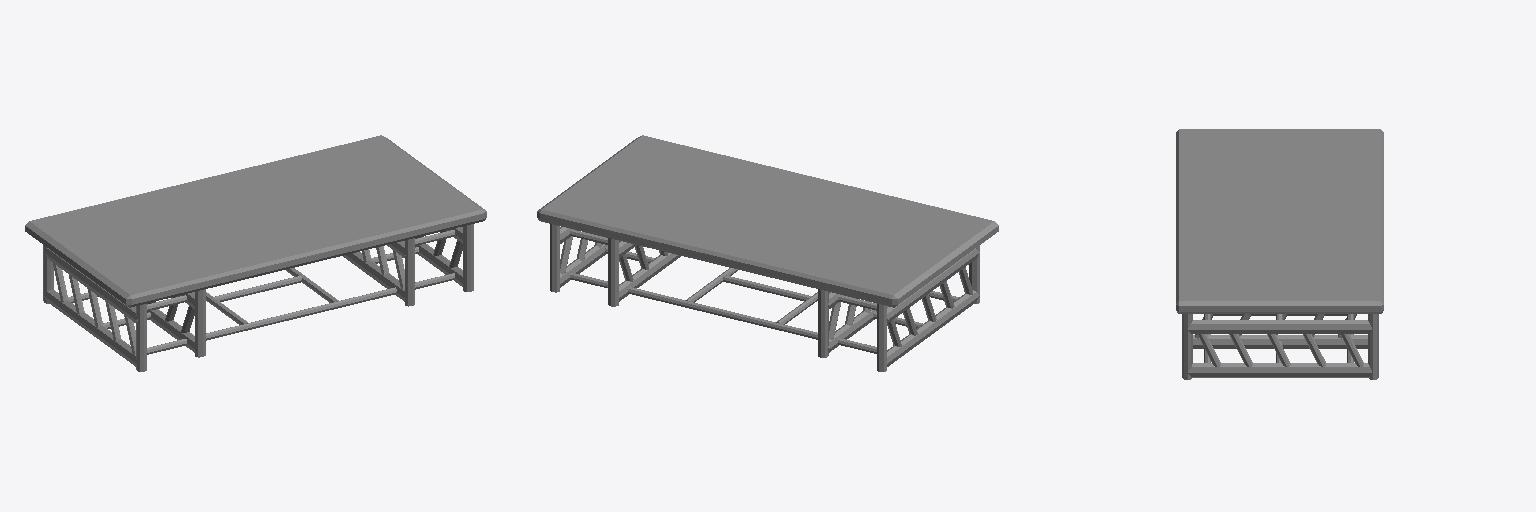
The model's file is BigPlatform.obj.
3 views of the same model, side by side, from view 1: azimuth 30°, elevation 25°; view 2: azimuth 150°, elevation 25°; view 3: azimuth 270°, elevation 25° (orthographic).
Parts seen in each view (by area): view 1: PlatformBase; view 2: PlatformBase; view 3: PlatformBase.
Part boxes in pixels (bbox=[...]): PlatformBase: bbox=[25, 135, 486, 371]; PlatformBase: bbox=[537, 135, 998, 371]; PlatformBase: bbox=[1176, 129, 1383, 379].
Size of the model in its own units: 8.27 by 1.78 by 4.12.